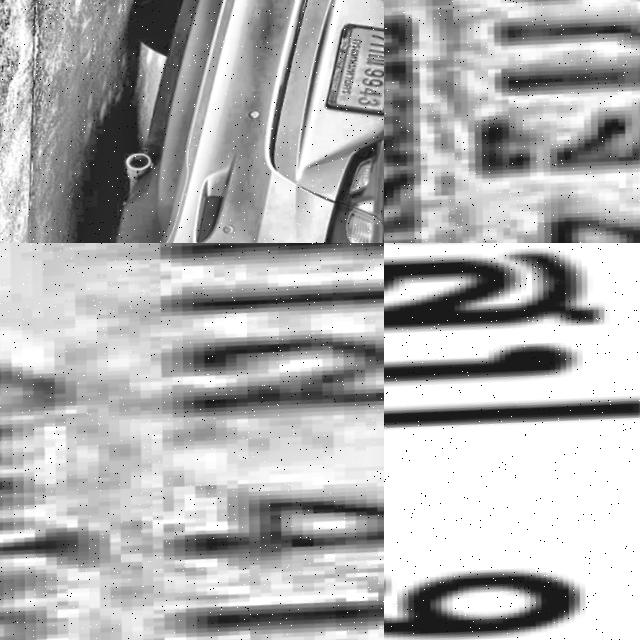license-plate: (0, 243, 384, 640), (384, 243, 640, 640), (384, 0, 640, 243), (310, 23, 384, 135)
